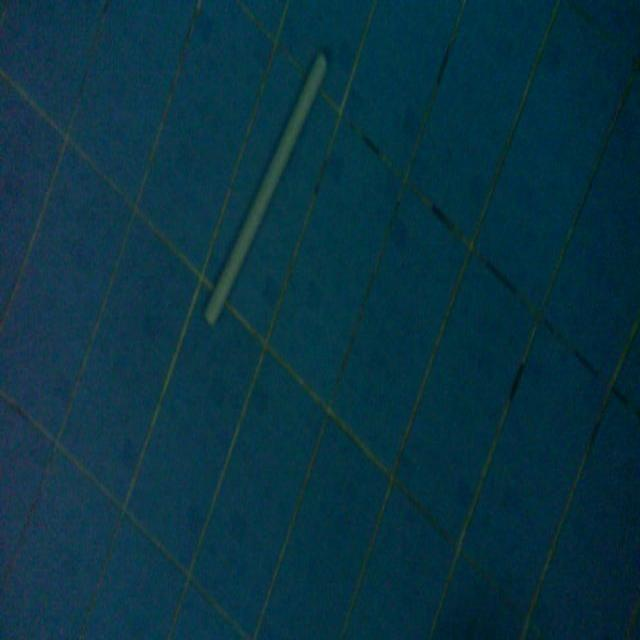Cube: (202, 45, 330, 327)
